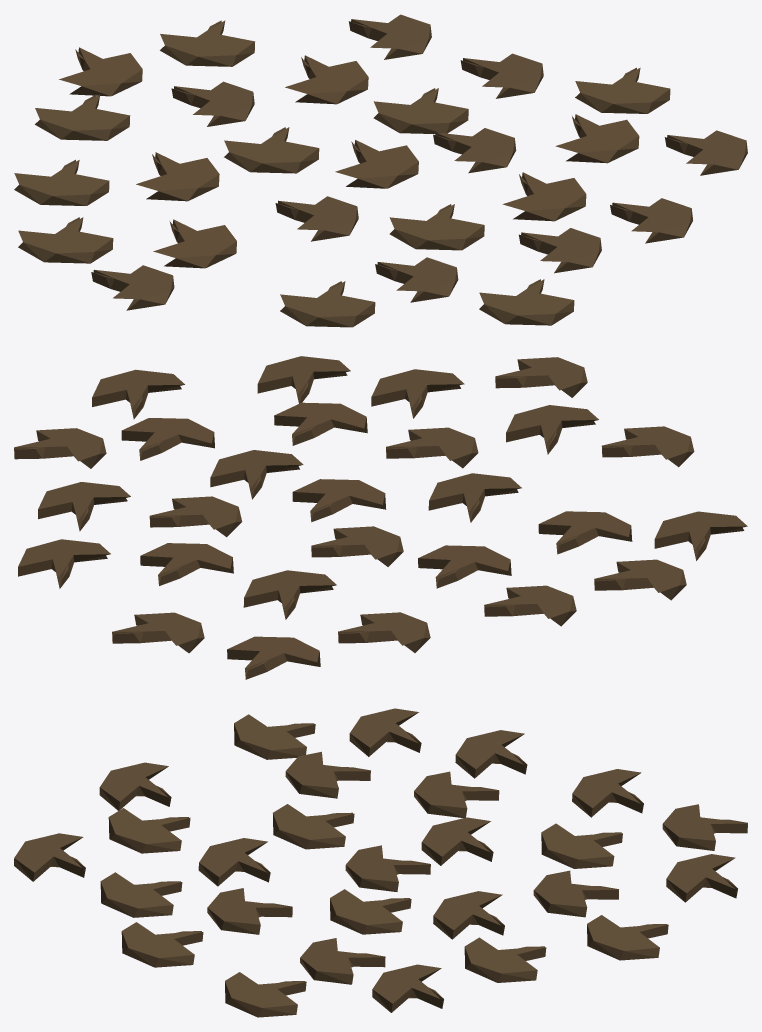
Rendered from champis.glb.
The picture shows the model from 3 angles, top to bottom: view 1: azimuth 30°, elevation 25°; view 2: azimuth 150°, elevation 25°; view 3: azimuth 270°, elevation 25°; orthographic projection. The views are drawn at different scales.
Visible parts, largest first — view 1: trozos_champis; view 2: trozos_champis; view 3: trozos_champis.
Part boxes in pixels (x1,y1,x2,y2): trozos_champis: [14, 14, 747, 327]; trozos_champis: [14, 356, 747, 679]; trozos_champis: [14, 708, 747, 1017].
Size of the model in its own units: 1.59 by 0.0577 by 1.67.
